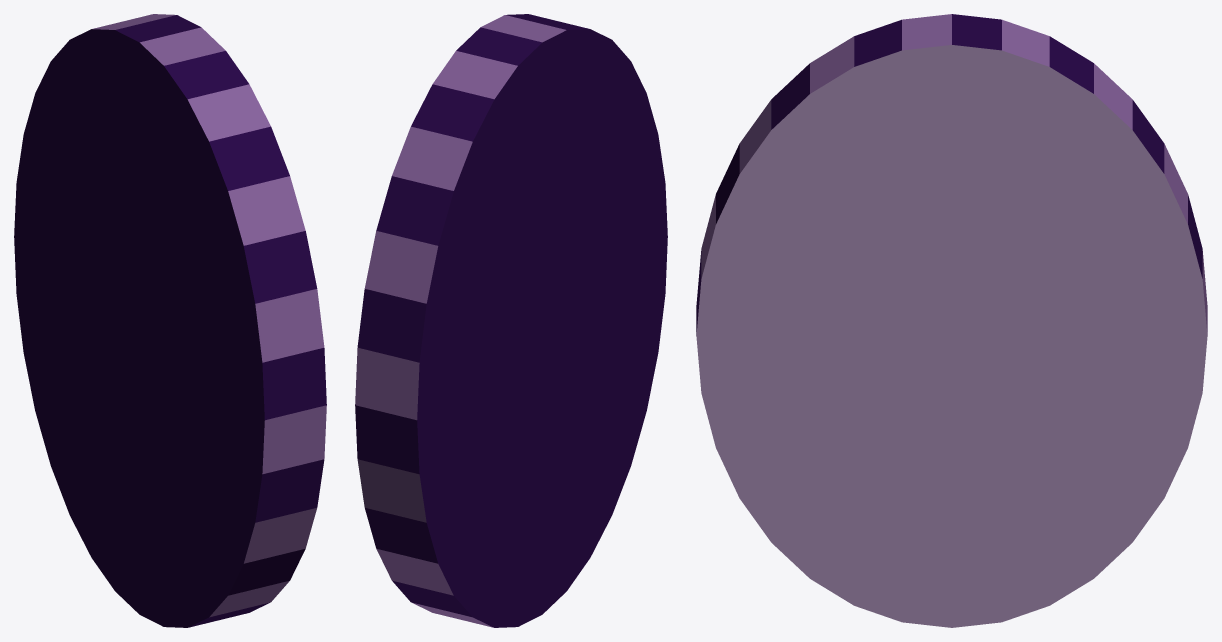
The model's file is Portal.fbx.
The picture shows the model from 3 angles, left to right: view 1: azimuth 30°, elevation 25°; view 2: azimuth 150°, elevation 25°; view 3: azimuth 270°, elevation 25°; orthographic projection.
Parts seen in each view (by area): view 1: Portal; view 2: Portal; view 3: Portal.
Boxes of the visible parts, <box> form: Portal: <box>14,14,326,627</box>; Portal: <box>355,14,667,627</box>; Portal: <box>696,14,1207,627</box>.
Size of the model in its own units: 50 by 441 by 350.
Materials: 1 (1 with a texture image).
